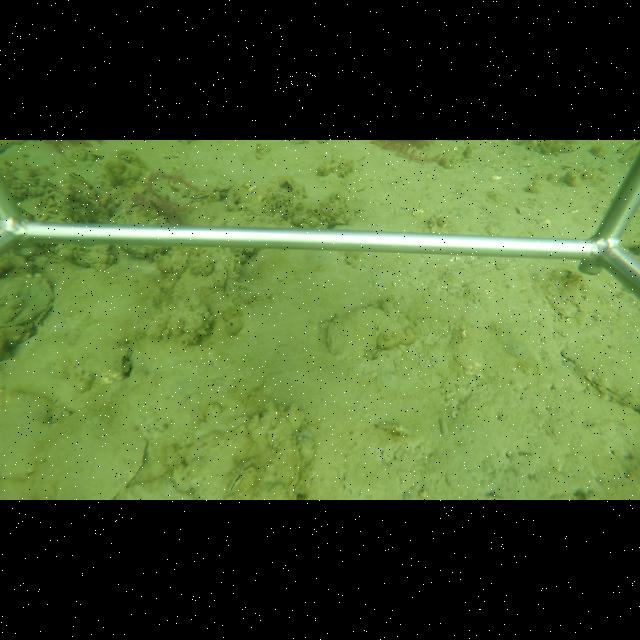Oyster-Closed: (24, 404, 151, 500), (558, 337, 640, 414), (324, 305, 420, 359), (3, 275, 57, 356), (228, 458, 257, 497)
